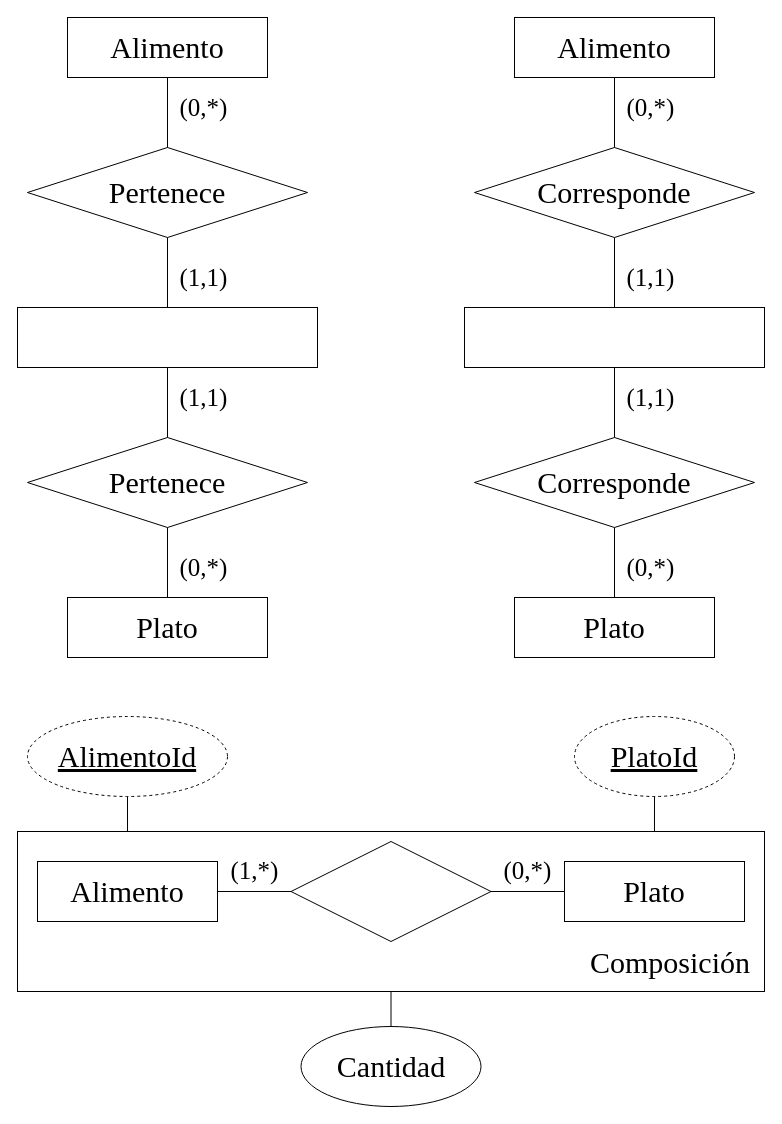
Some shapes in this 782 by 1124 pixel diagram are drawn without their labels. The centre of each missing label's shape, as x and y in pixels:
"Compone" belongs at (390,891).
"GrupoNutricional" belongs at (167,337).
"TipoPreparación" belongs at (614,337).
